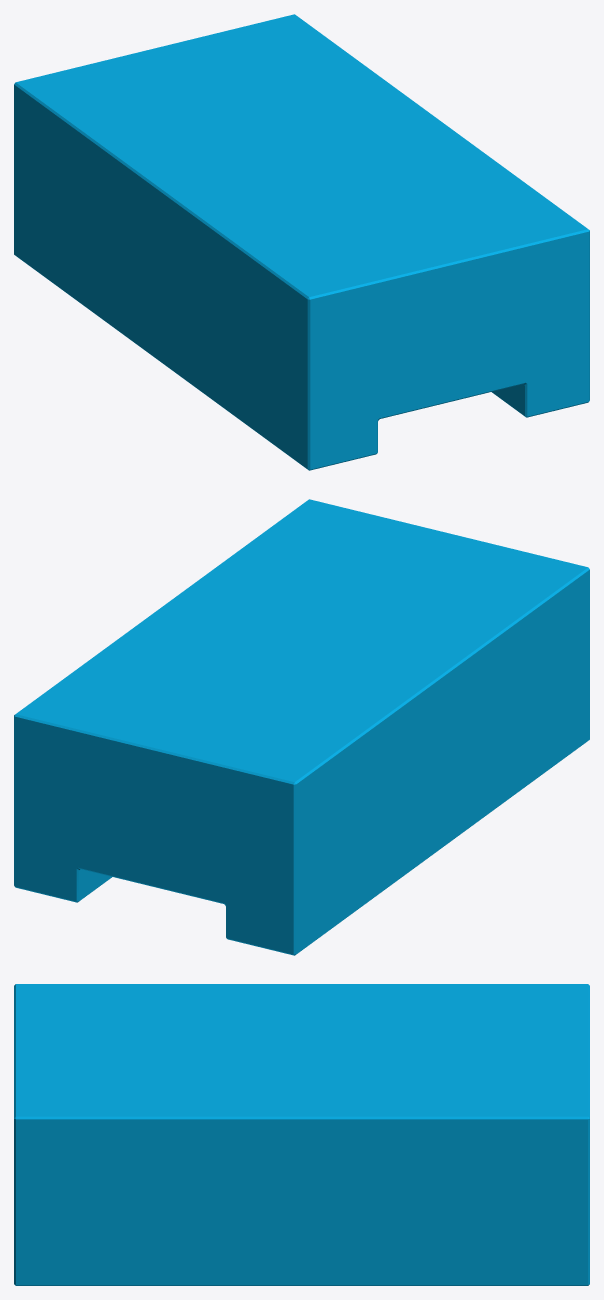
The model's file is Worksite_Fence_Base_Lod0.fbx.
The picture shows the model from 3 angles, top to bottom: view 1: azimuth 30°, elevation 25°; view 2: azimuth 150°, elevation 25°; view 3: azimuth 270°, elevation 25°; orthographic projection. The views are drawn at different scales.
Parts seen in each view (by area): view 1: Worksite_Fence_Base_Lod0; view 2: Worksite_Fence_Base_Lod0; view 3: Worksite_Fence_Base_Lod0.
Boxes of the visible parts, x1=… form: Worksite_Fence_Base_Lod0: x1=14, y1=14, x2=589, y2=470; Worksite_Fence_Base_Lod0: x1=14, y1=499, x2=589, y2=955; Worksite_Fence_Base_Lod0: x1=14, y1=984, x2=589, y2=1285.
Size of the model in its own units: 19.26 by 11.31 by 34.91.
